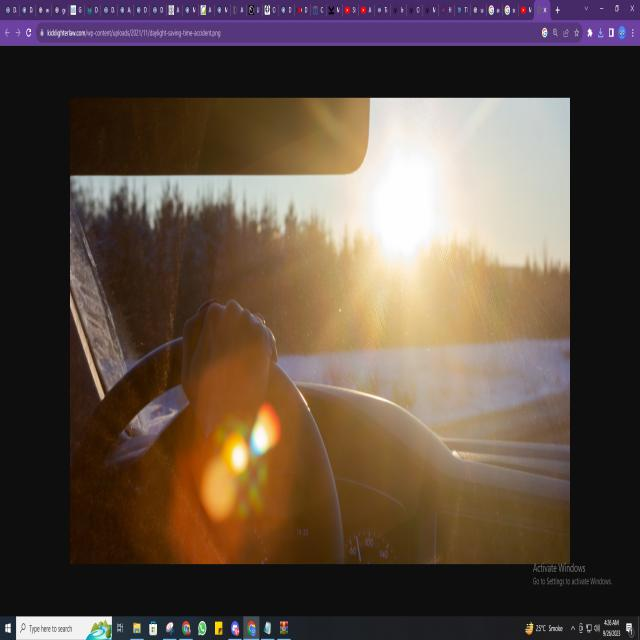sun: (352, 110, 460, 280)
